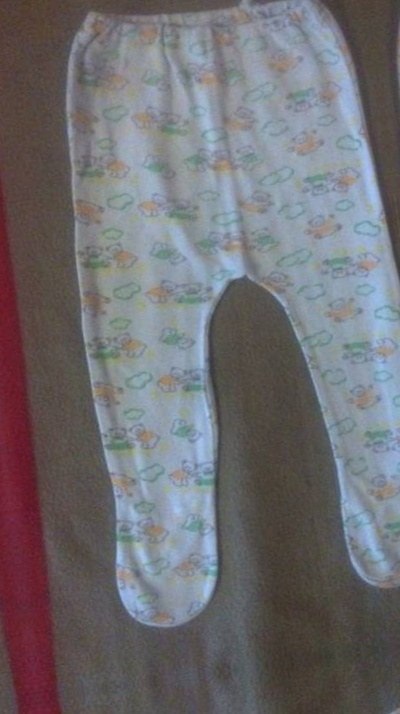Pants: (24, 0, 400, 629), (371, 0, 400, 580), (126, 697, 400, 714)
